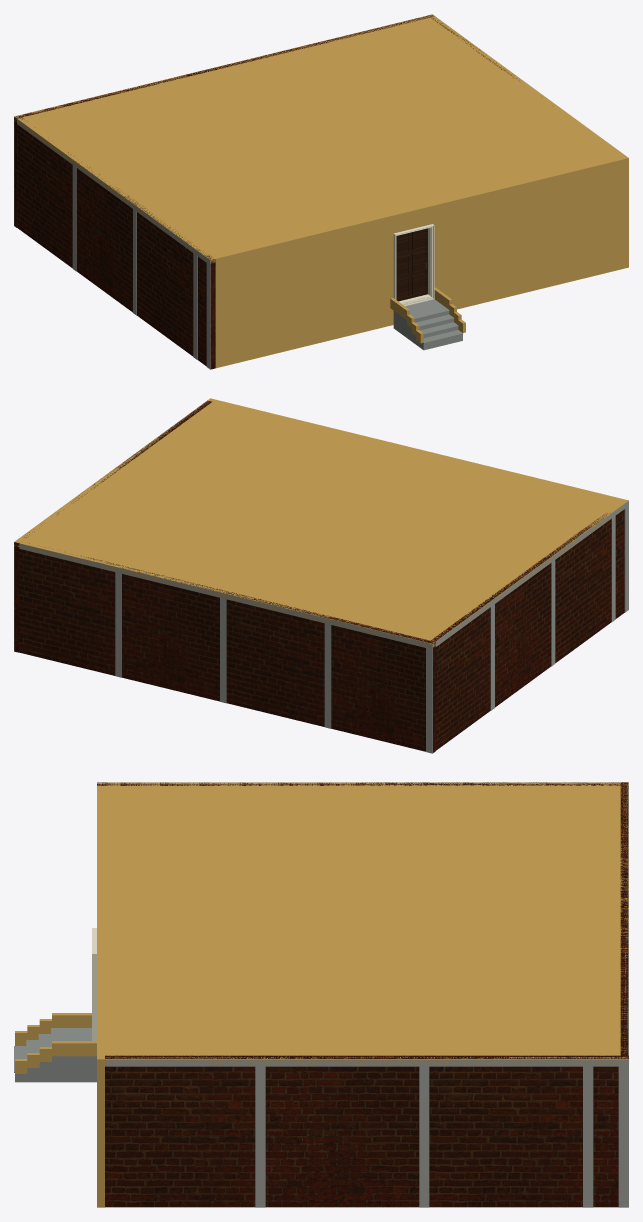
Rendered from building.glb.
3 renders of one model, top to bottom at view 1: azimuth 30°, elevation 25°; view 2: azimuth 150°, elevation 25°; view 3: azimuth 270°, elevation 25°, orthographic. The views are drawn at different scales.
Visible parts, largest first — view 1: roof/house:0/roof_slab#0001, house:0/edge0/z0/house:0/edge0/z0/wall_0_0, house:0/edge3/z0/house:0/edge3/z0/wall_0_0, entrance/gradas_con_mejillas/entrance_steps#0001, house:0/edge2/z0/house:0/edge2/z0/wall_0_0, house:0/edge3/z0/house:0/edge3/z0/beam_0_0, house:0/edge3/z0/house:0/edge3/z0/column_1_0, house:0/edge3/z0/house:0/edge3/z0/column_2_0, house:0/edge3/z0/house:0/edge3/z0/column_4_0; view 2: roof/house:0/roof_slab#0001, house:0/edge2/z0/house:0/edge2/z0/wall_0_0, house:0/edge3/z0/house:0/edge3/z0/wall_0_0, house:0/edge2/z0/house:0/edge2/z0/beam_0_0, house:0/edge0/z0/house:0/edge0/z0/wall_0_0, house:0/edge3/z0/house:0/edge3/z0/beam_0_0, house:0/edge1/z0/house:0/edge1/z0/wall_0_0, house:0/edge2/z0/house:0/edge2/z0/column_4_0, house:0/edge2/z0/house:0/edge2/z0/column_1_0, house:0/edge2/z0/house:0/edge2/z0/column_2_0, house:0/edge2/z0/house:0/edge2/z0/column_3_0, house:0/edge3/z0/house:0/edge3/z0/column_1_0 (+3 smaller); view 3: roof/house:0/roof_slab#0001, house:0/edge1/z0/house:0/edge1/z0/wall_0_0, house:0/edge1/z0/house:0/edge1/z0/beam_0_0, house:0/edge0/z0/house:0/edge0/z0/wall_0_0, entrance/gradas_con_mejillas/entrance_steps#0001, house:0/edge2/z0/house:0/edge2/z0/wall_0_0, house:0/edge1/z0/house:0/edge1/z0/column_2_0, house:0/edge1/z0/house:0/edge1/z0/column_1_0, house:0/edge1/z0/house:0/edge1/z0/column_3_0, house:0/edge1/z0/house:0/edge1/z0/column_4_0, house:0/edge3/z0/house:0/edge3/z0/wall_0_0, entrance/gradas_con_mejillas/entrance_side#0002 (+1 smaller).
Boxes of the visible parts, bbox=[...] form: roof/house:0/roof_slab#0001: bbox=[14, 14, 628, 263]; house:0/edge0/z0/house:0/edge0/z0/wall_0_0: bbox=[213, 157, 628, 368]; house:0/edge3/z0/house:0/edge3/z0/wall_0_0: bbox=[17, 117, 215, 369]; entrance/gradas_con_mejillas/entrance_steps#0001: bbox=[393, 299, 462, 350]; house:0/edge2/z0/house:0/edge2/z0/wall_0_0: bbox=[14, 16, 429, 227]; house:0/edge3/z0/house:0/edge3/z0/beam_0_0: bbox=[17, 118, 210, 265]; house:0/edge3/z0/house:0/edge3/z0/column_1_0: bbox=[206, 263, 210, 369]; house:0/edge3/z0/house:0/edge3/z0/column_2_0: bbox=[72, 165, 76, 271]; house:0/edge3/z0/house:0/edge3/z0/column_4_0: bbox=[193, 253, 197, 359]; roof/house:0/roof_slab#0001: bbox=[14, 398, 628, 647]; house:0/edge2/z0/house:0/edge2/z0/wall_0_0: bbox=[19, 543, 435, 752]; house:0/edge3/z0/house:0/edge3/z0/wall_0_0: bbox=[431, 509, 624, 750]; house:0/edge2/z0/house:0/edge2/z0/beam_0_0: bbox=[19, 543, 432, 649]; house:0/edge0/z0/house:0/edge0/z0/wall_0_0: bbox=[207, 398, 621, 501]; house:0/edge3/z0/house:0/edge3/z0/beam_0_0: bbox=[435, 500, 628, 646]; house:0/edge1/z0/house:0/edge1/z0/wall_0_0: bbox=[14, 400, 212, 652]; house:0/edge2/z0/house:0/edge2/z0/column_4_0: bbox=[324, 623, 331, 728]; house:0/edge2/z0/house:0/edge2/z0/column_1_0: bbox=[426, 648, 432, 753]; house:0/edge2/z0/house:0/edge2/z0/column_2_0: bbox=[115, 572, 121, 677]; house:0/edge2/z0/house:0/edge2/z0/column_3_0: bbox=[220, 598, 226, 703]; house:0/edge3/z0/house:0/edge3/z0/column_1_0: bbox=[624, 506, 628, 612]; roof/house:0/roof_slab#0001: bbox=[97, 782, 628, 1064]; house:0/edge1/z0/house:0/edge1/z0/wall_0_0: bbox=[105, 1055, 628, 1207]; house:0/edge1/z0/house:0/edge1/z0/beam_0_0: bbox=[105, 1059, 628, 1066]; house:0/edge0/z0/house:0/edge0/z0/wall_0_0: bbox=[97, 786, 104, 1207]; entrance/gradas_con_mejillas/entrance_steps#0001: bbox=[15, 1028, 96, 1082]; house:0/edge2/z0/house:0/edge2/z0/wall_0_0: bbox=[620, 782, 628, 1055]; house:0/edge1/z0/house:0/edge1/z0/column_2_0: bbox=[255, 1066, 265, 1207]; house:0/edge1/z0/house:0/edge1/z0/column_1_0: bbox=[618, 1066, 628, 1207]; house:0/edge1/z0/house:0/edge1/z0/column_3_0: bbox=[419, 1066, 429, 1207]; house:0/edge1/z0/house:0/edge1/z0/column_4_0: bbox=[583, 1066, 593, 1207]; house:0/edge3/z0/house:0/edge3/z0/wall_0_0: bbox=[97, 782, 620, 785]; entrance/gradas_con_mejillas/entrance_side#0002: bbox=[15, 1041, 96, 1073].
Size of the model in its own units: 16 by 4.12 by 15.03.
7 materials, 2 textured.
